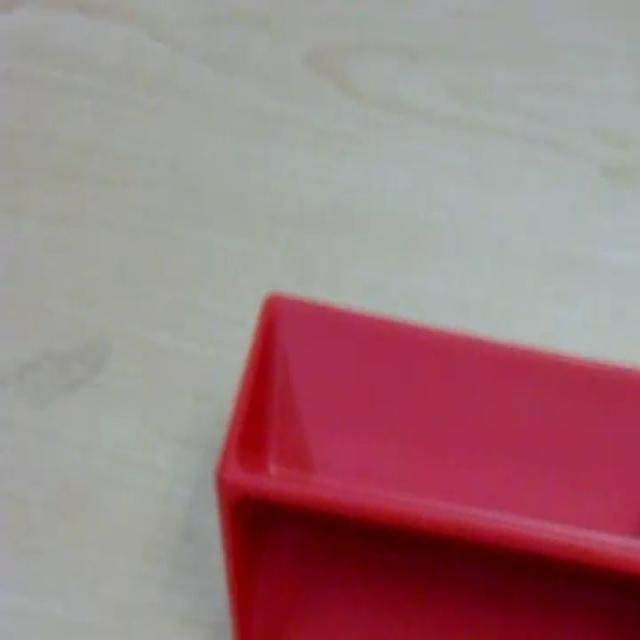red_block: (214, 287, 638, 637)
